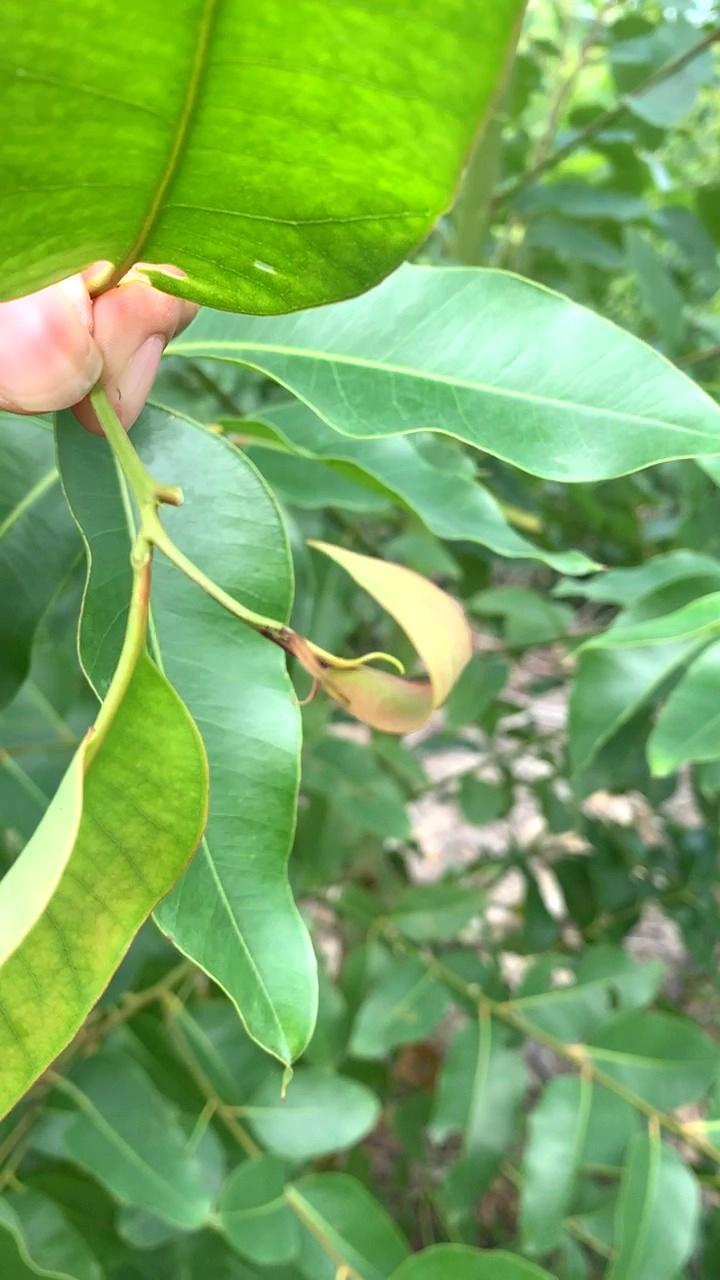Helopeltis-Withered Sprout: (271, 530, 477, 741)
